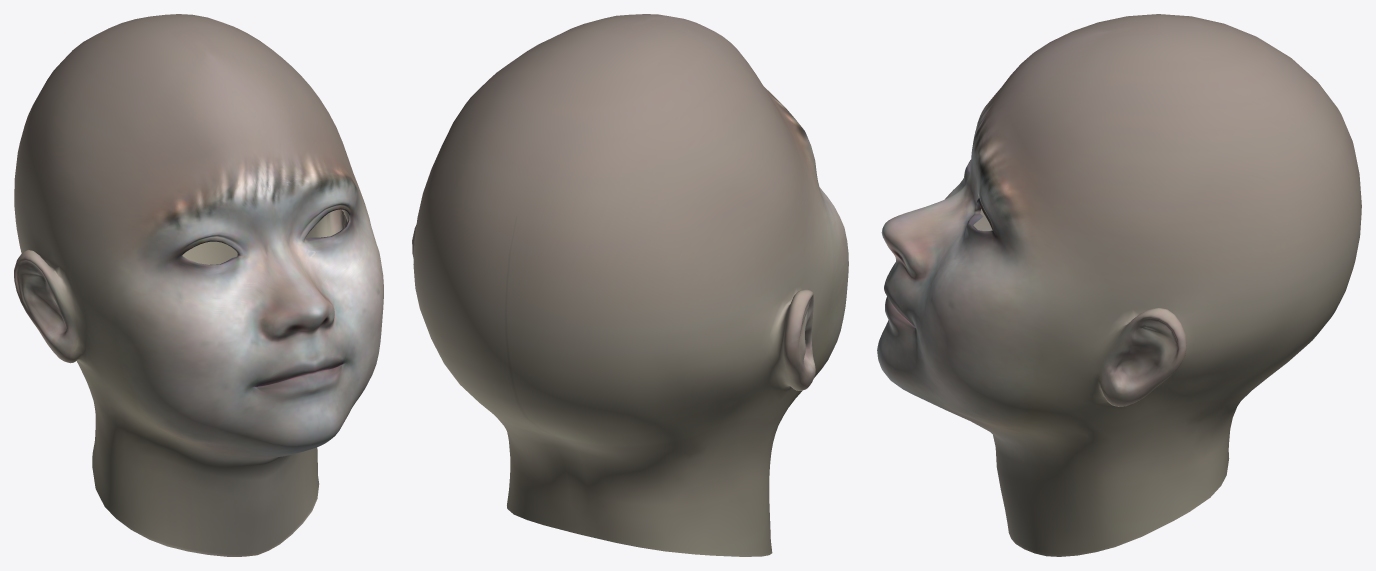
3 views of the same model, side by side, from view 1: azimuth 30°, elevation 25°; view 2: azimuth 150°, elevation 25°; view 3: azimuth 270°, elevation 25° (orthographic). The views are drawn at different scales.
Visible parts, largest first — view 1: FaceGen; view 2: FaceGen; view 3: FaceGen.
Part boxes in pixels (x1,y1,x2,y2): FaceGen: (14, 14, 383, 556); FaceGen: (412, 14, 848, 556); FaceGen: (877, 14, 1361, 556).
Size of the model in its own units: 207 by 283 by 246.
Materials: 1 (1 with a texture image).
